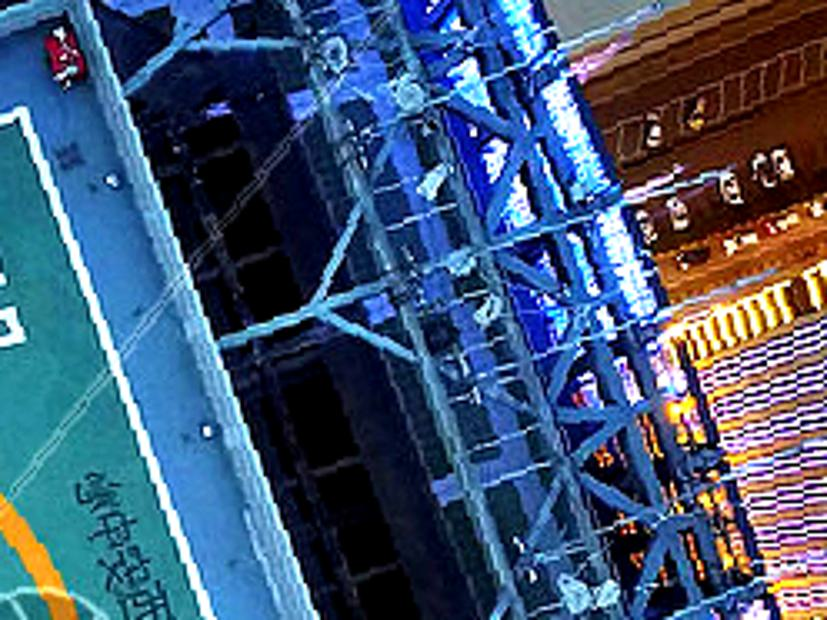Apron: (1, 490, 88, 619)
